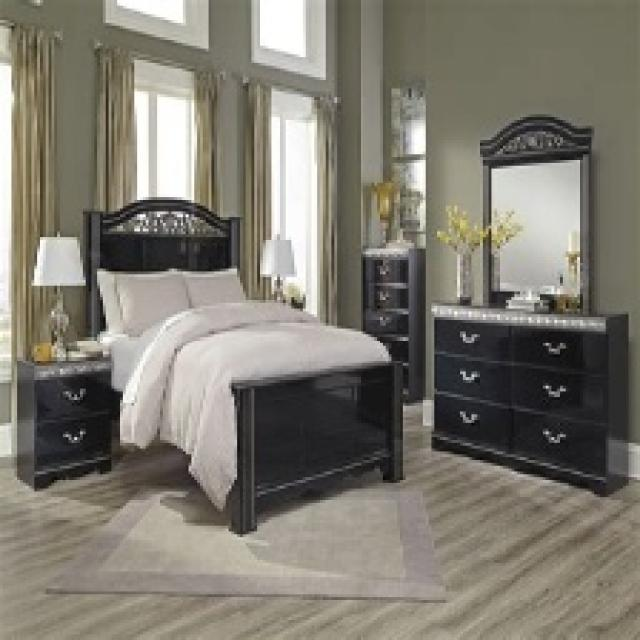Bed: (80, 195, 403, 534)
